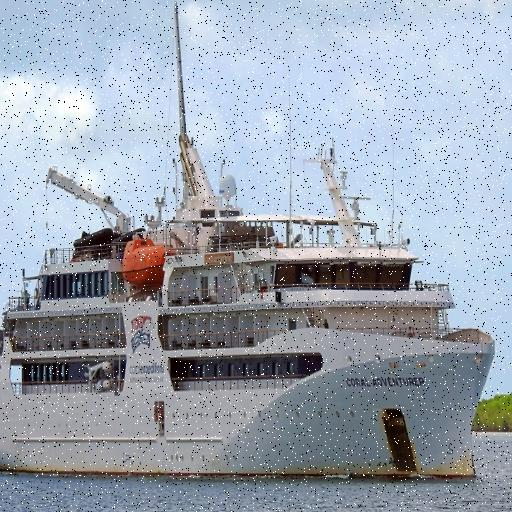cruises: (1, 109, 497, 485)
